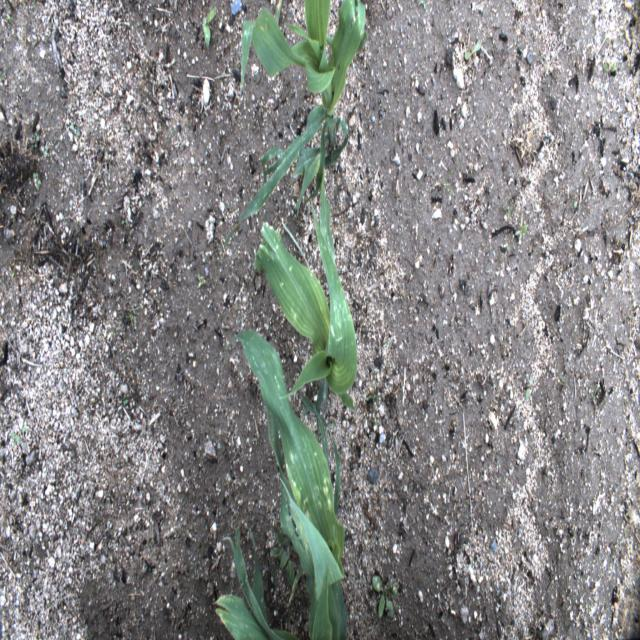crop: (223, 0, 369, 246), (225, 330, 349, 605), (253, 171, 359, 479), (214, 511, 350, 639)
weed: (270, 524, 296, 582), (371, 574, 398, 622), (363, 387, 378, 436), (439, 161, 458, 199), (202, 4, 217, 48), (463, 40, 483, 65), (622, 496, 634, 535), (27, 167, 43, 192), (126, 304, 141, 330), (11, 424, 26, 447), (516, 212, 528, 240), (524, 373, 534, 402), (122, 393, 132, 415), (32, 125, 40, 151), (196, 272, 207, 290), (601, 62, 618, 73), (70, 124, 81, 139), (572, 198, 582, 214), (0, 64, 8, 84), (590, 385, 598, 402), (41, 145, 51, 158), (238, 474, 248, 485), (9, 265, 16, 280), (505, 204, 512, 219), (572, 520, 577, 537), (615, 536, 623, 546), (419, 0, 427, 10), (584, 600, 589, 615), (110, 326, 116, 338), (7, 12, 14, 22), (50, 140, 57, 148), (185, 526, 189, 539)
